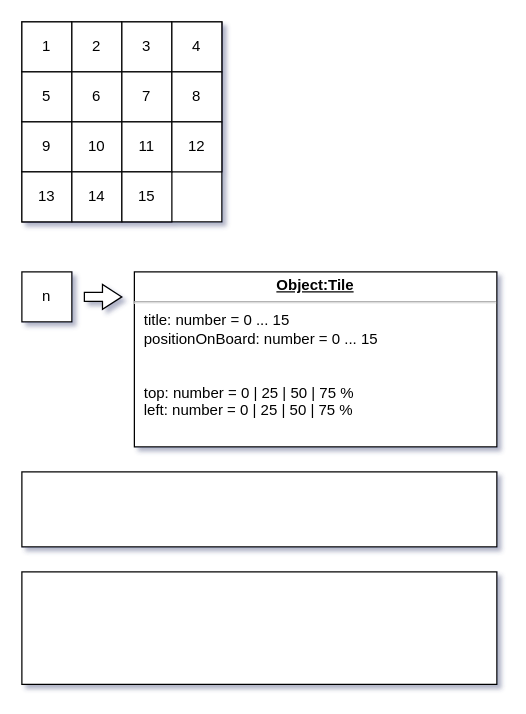
This 526x714 diagram has some shape labels left out. The shapes that lost their labels are listed below. From the top down, each one's centre as x and y in pixels, then its label:
point (259, 509): Array:Board positionOnBoard: Tile
point (259, 627): Object:Game board: Board win: boolean steps: number
